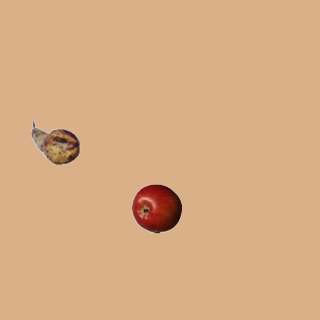Apple Braeburn: (131, 183, 181, 233)
Pear Abate: (30, 117, 80, 167)
